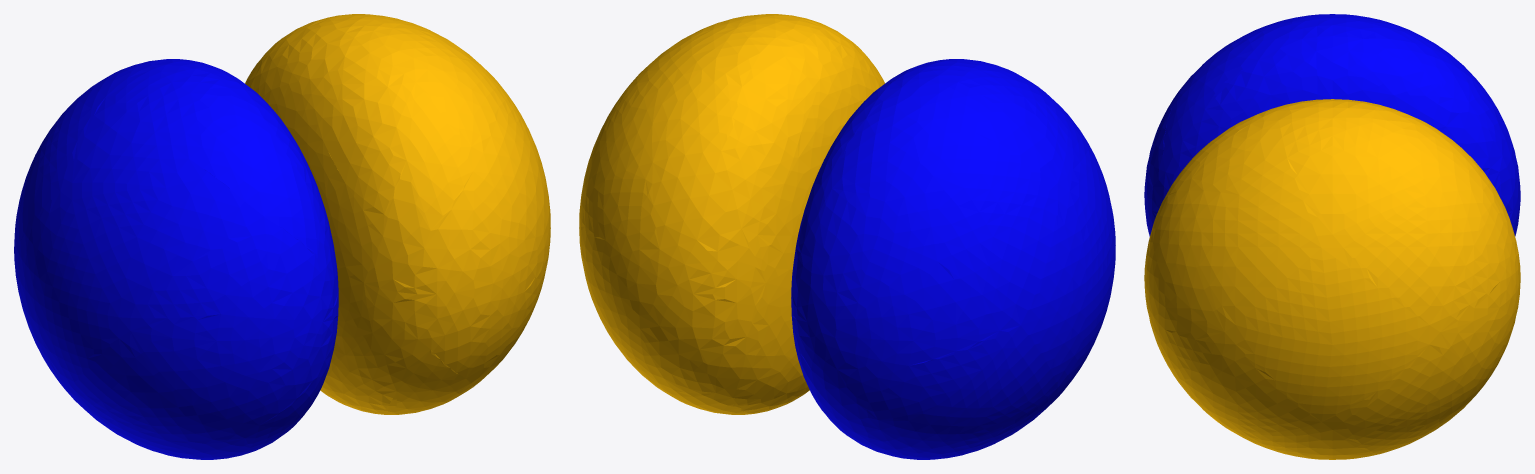
3 views of the same model, side by side, from view 1: azimuth 30°, elevation 25°; view 2: azimuth 150°, elevation 25°; view 3: azimuth 270°, elevation 25° (orthographic). The views are drawn at different scales.
Size of the model in its own units: 11.95 by 8.8 by 8.79.
